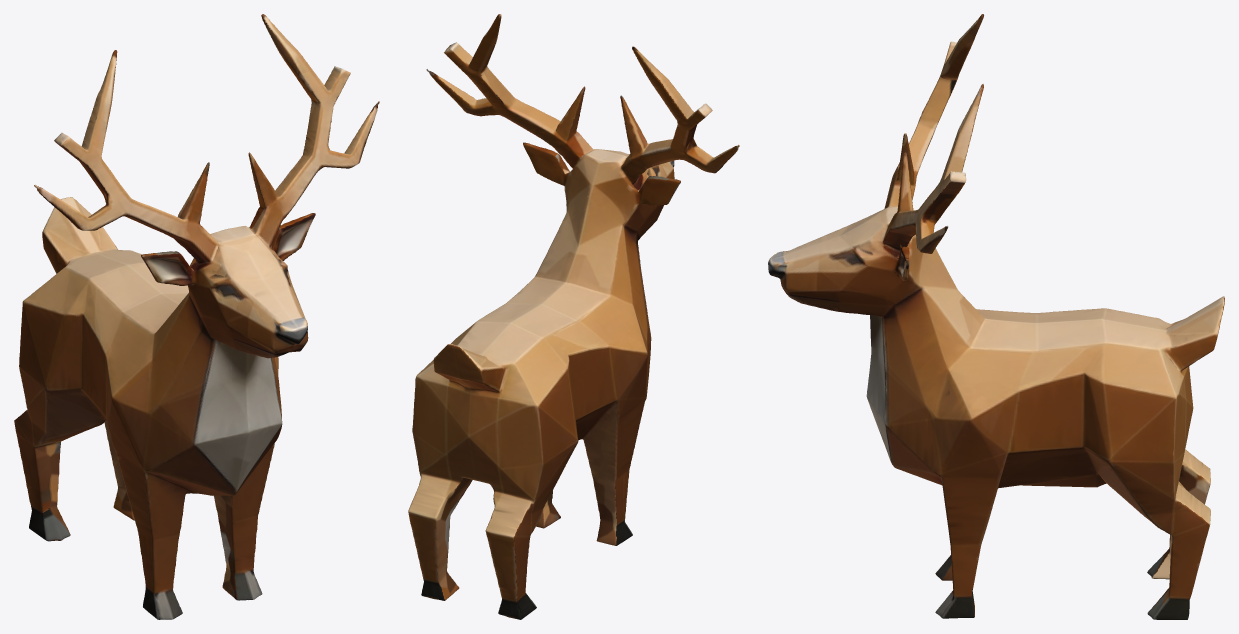
The model's file is deer.glb.
3 views of the same model, side by side, from view 1: azimuth 30°, elevation 25°; view 2: azimuth 150°, elevation 25°; view 3: azimuth 270°, elevation 25° (orthographic). The views are drawn at different scales.
Visible parts, largest first — view 1: Deer; view 2: Deer; view 3: Deer.
Boxes of the visible parts, bbox=[...] form: Deer: bbox=[14, 14, 379, 619]; Deer: bbox=[408, 14, 739, 619]; Deer: bbox=[768, 14, 1224, 619].
Bounding box in the file's own units: 0.4511 × 0.7 × 0.5315.
Materials: 1 (1 with a texture image).
